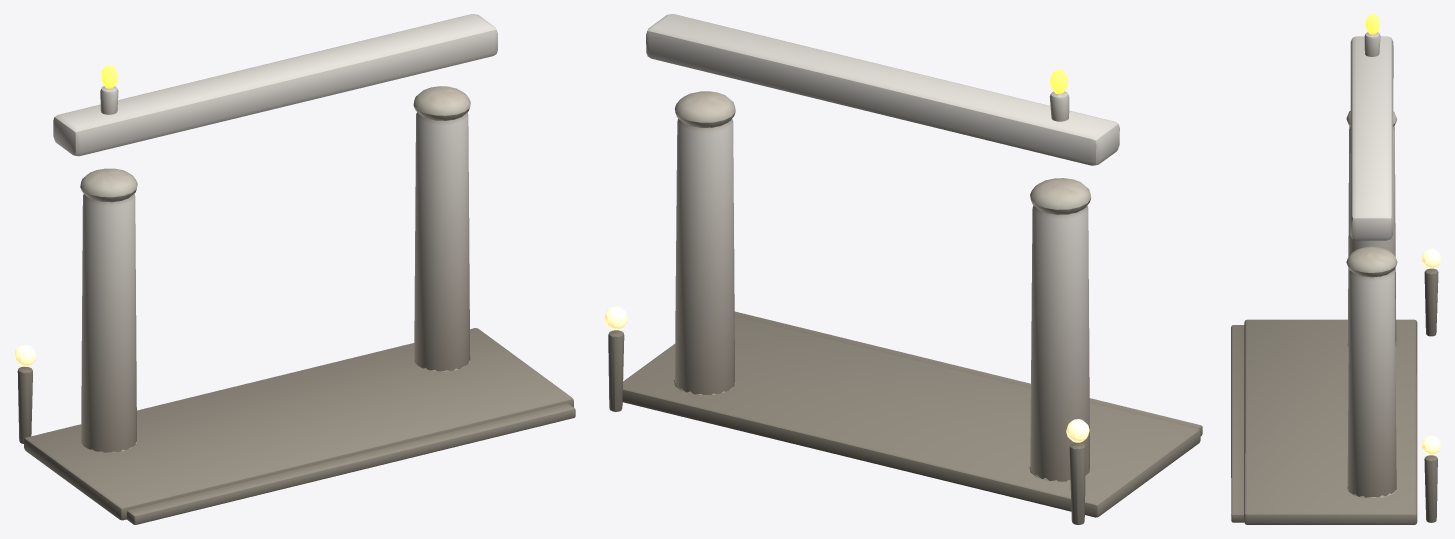
The picture shows the model from 3 angles, left to right: view 1: azimuth 30°, elevation 25°; view 2: azimuth 150°, elevation 25°; view 3: azimuth 270°, elevation 25°; orthographic projection. The views are drawn at different scales.
Parts seen in each view (by area): view 1: gate_6126cd91; view 2: gate_6126cd91; view 3: gate_6126cd91.
Part boxes in pixels (<box>): gate_6126cd91: <box>14,14,575,524</box>; gate_6126cd91: <box>604,14,1202,524</box>; gate_6126cd91: <box>1231,14,1440,524</box>.
Size of the model in its own units: 5.62 by 4.6 by 2.55.
